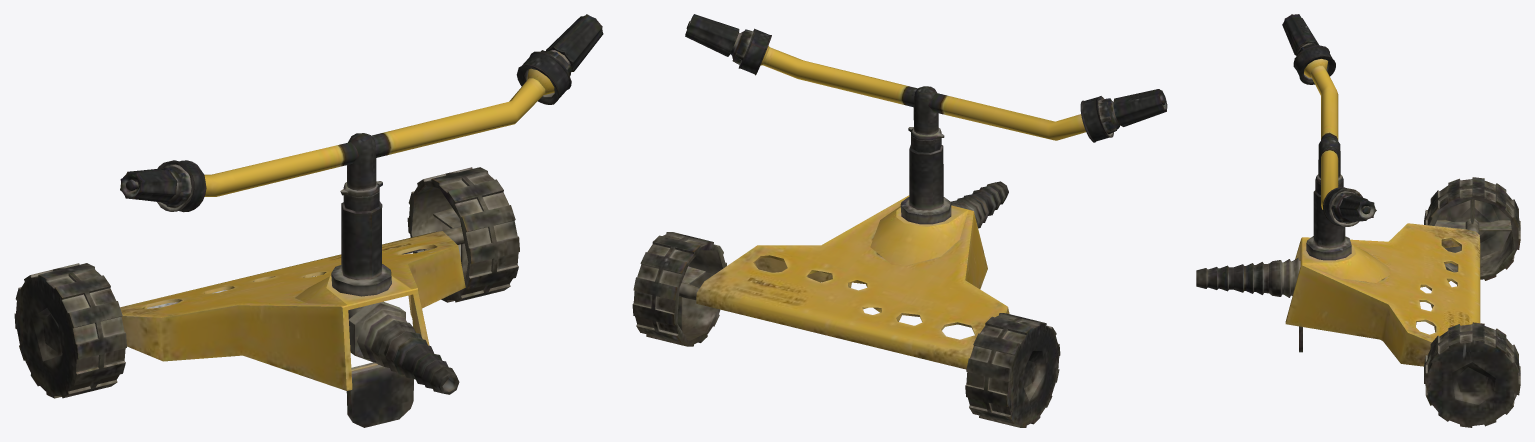
File: garden_sprinkler_01_1k.gltf
3 renders of one model, left to right at view 1: azimuth 30°, elevation 25°; view 2: azimuth 150°, elevation 25°; view 3: azimuth 270°, elevation 25°, orthographic. The views are drawn at different scales.
Parts seen in each view (by area): view 1: garden_sprinkler_01_body_main, garden_sprinkler_01_wheels, garden_sprinkler_01_spinner, garden_sprinkler_01_nozel_left, garden_sprinkler_01_nozel_right; view 2: garden_sprinkler_01_body_main, garden_sprinkler_01_wheels, garden_sprinkler_01_spinner, garden_sprinkler_01_nozel_left, garden_sprinkler_01_nozel_right; view 3: garden_sprinkler_01_body_main, garden_sprinkler_01_wheels, garden_sprinkler_01_spinner, garden_sprinkler_01_nozel_left, garden_sprinkler_01_nozel_right.
Boxes of the visible parts, <box> form: garden_sprinkler_01_body_main: <box>120,181,465,427</box>; garden_sprinkler_01_wheels: <box>14,167,519,398</box>; garden_sprinkler_01_spinner: <box>204,68,554,196</box>; garden_sprinkler_01_nozel_left: <box>120,160,206,212</box>; garden_sprinkler_01_nozel_right: <box>516,14,603,104</box>; garden_sprinkler_01_body_main: <box>696,127,1009,369</box>; garden_sprinkler_01_wheels: <box>632,232,1060,427</box>; garden_sprinkler_01_spinner: <box>760,46,1085,140</box>; garden_sprinkler_01_nozel_left: <box>1080,89,1167,142</box>; garden_sprinkler_01_nozel_right: <box>685,14,771,75</box>; garden_sprinkler_01_body_main: <box>1196,174,1480,366</box>; garden_sprinkler_01_wheels: <box>1424,177,1520,427</box>; garden_sprinkler_01_spinner: <box>1304,59,1340,209</box>; garden_sprinkler_01_nozel_left: <box>1282,14,1335,84</box>; garden_sprinkler_01_nozel_right: <box>1323,187,1376,226</box>.
Bounding box in the file's own units: 0.3508 × 0.203 × 0.2491.
Materials: 1 (1 with a texture image).
